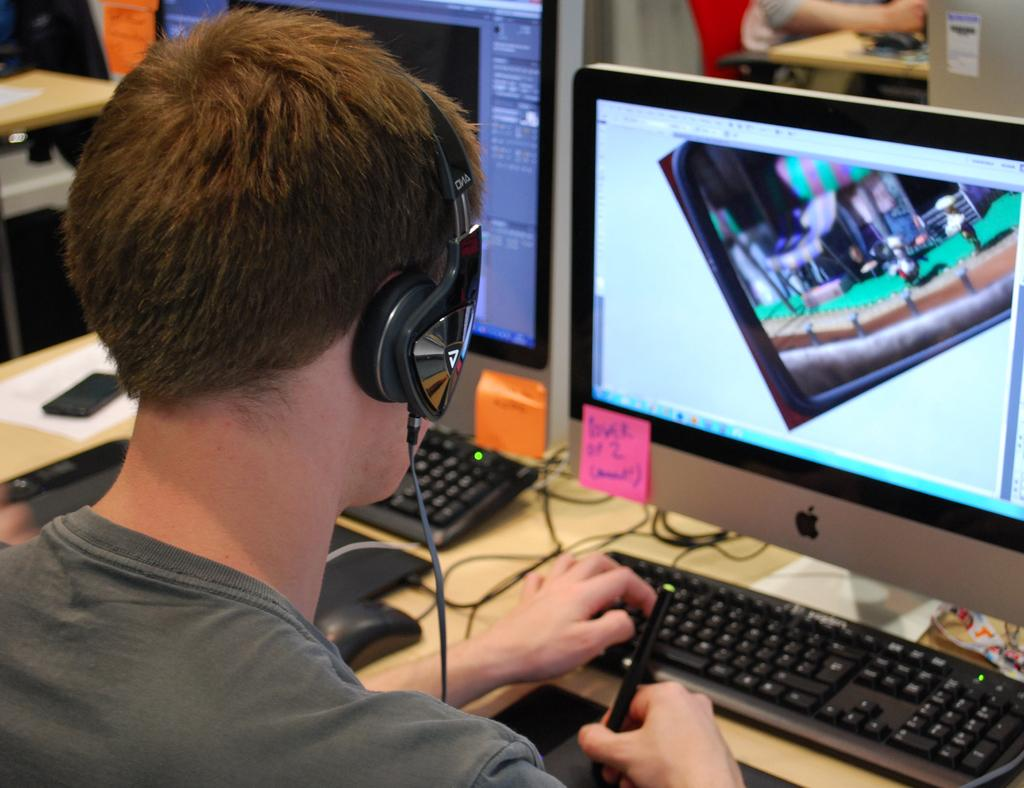Computer-keyboard: (589, 546, 1023, 787), (338, 430, 538, 545)
Computer-monitor: (568, 52, 1023, 652), (143, 0, 574, 448)
